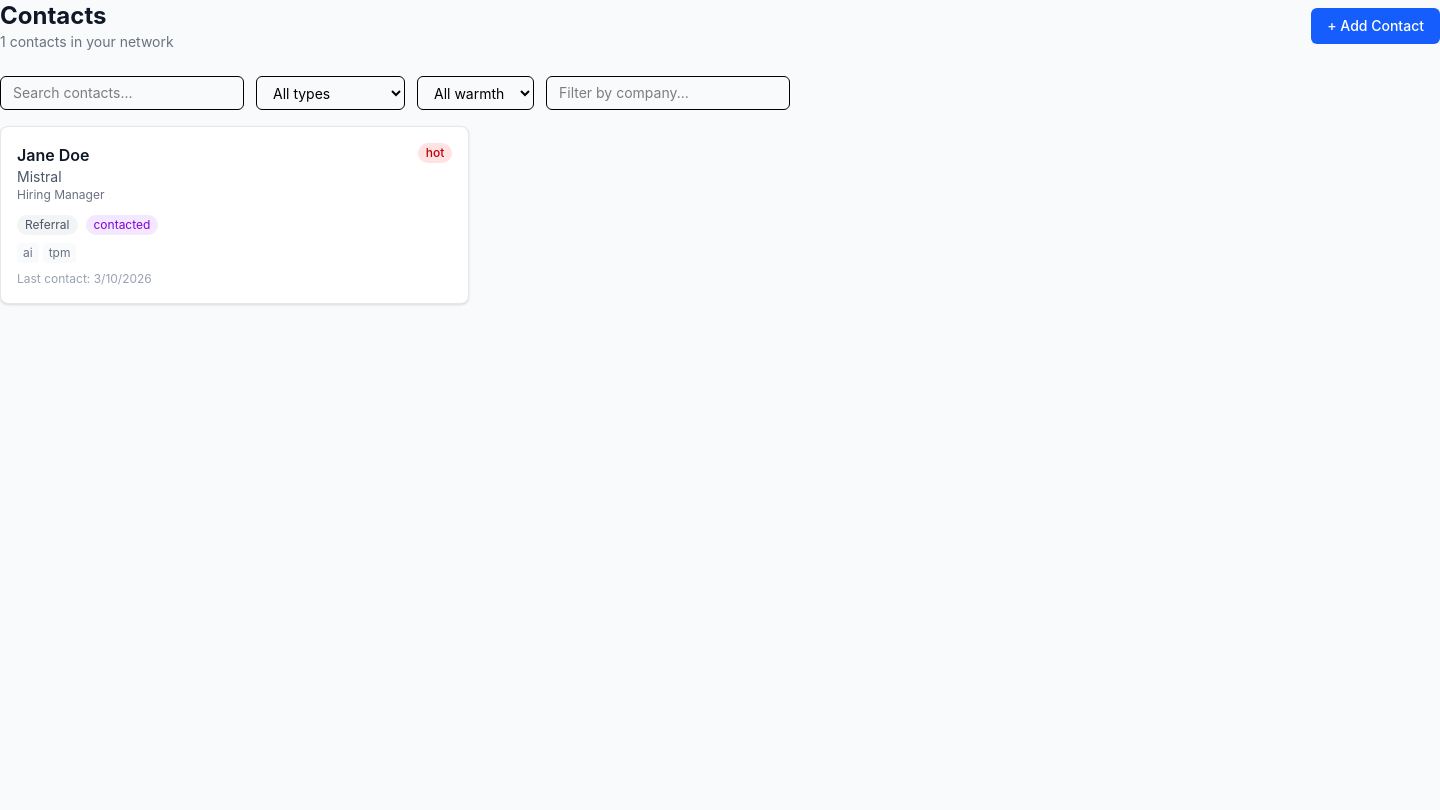
Test: ContactsPage › closes contact detail on Escape key
Expected: the heading "Jane Doe" is shown, [17,145,90,165]
Step 1. Click the button with test id "contact-card-1" → (53, 155), box [0,126,469,304]
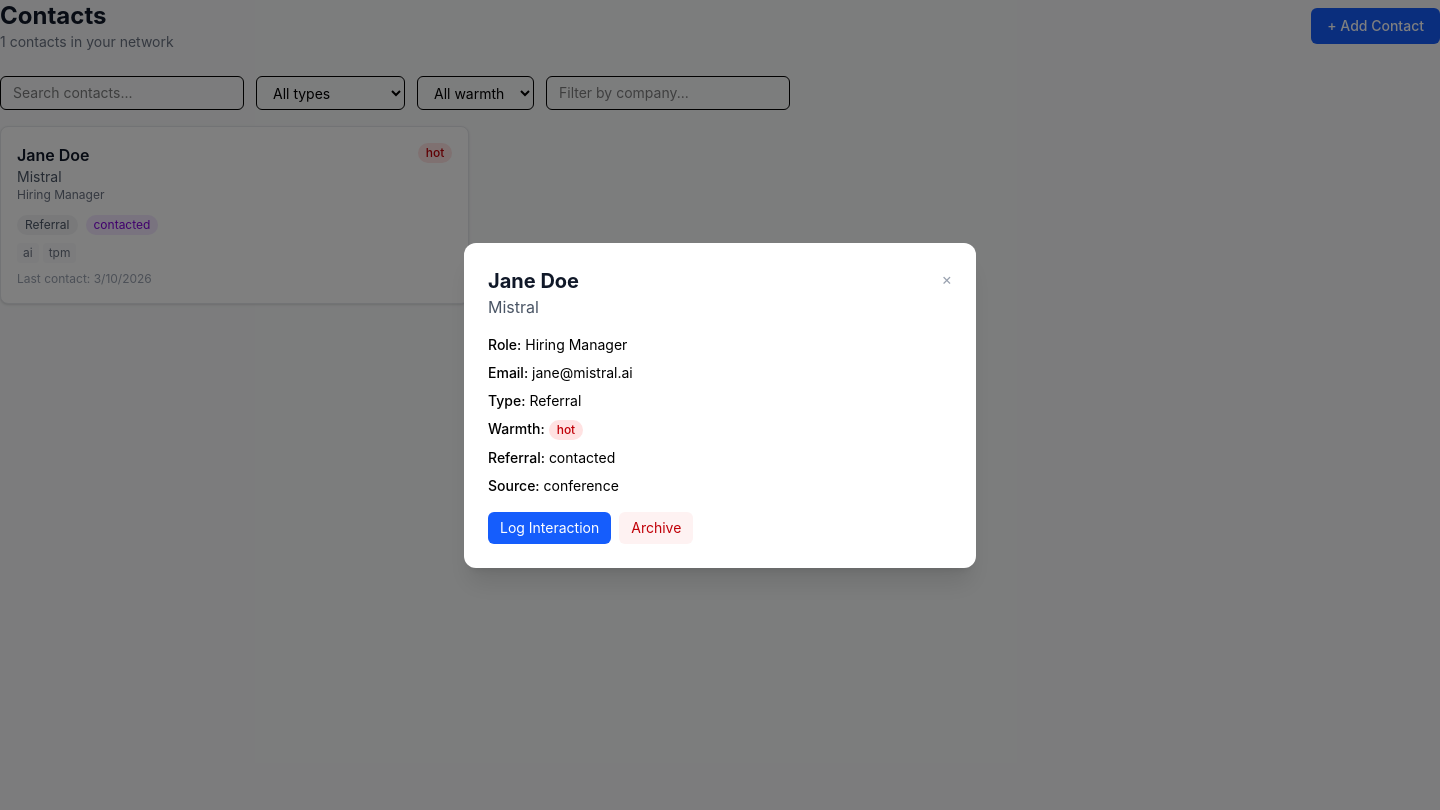
Result: the element with test id "contact-detail-overlay" is shown
Step 2. Press Escape
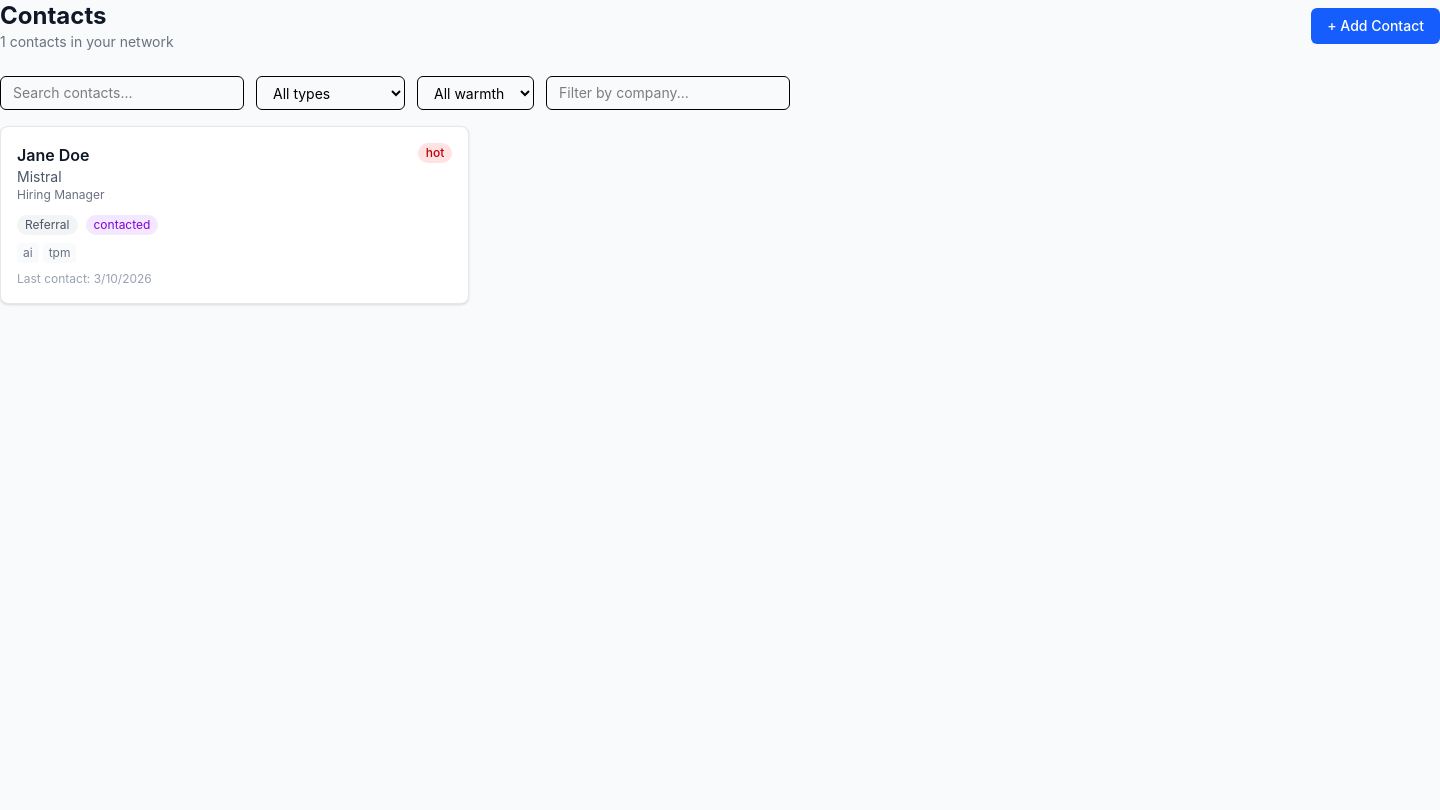
Result: the element with test id "contact-detail-overlay" is gone
